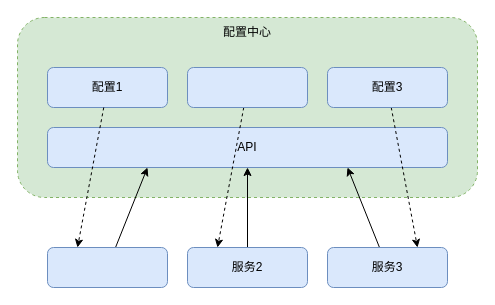
This 495x305 diagram has some shape labels left out. Here are the shapes that lost their labels. From the top down, the box of each, then its label:
(186, 66, 308, 108): 配置2
(46, 246, 168, 288): 服务1
